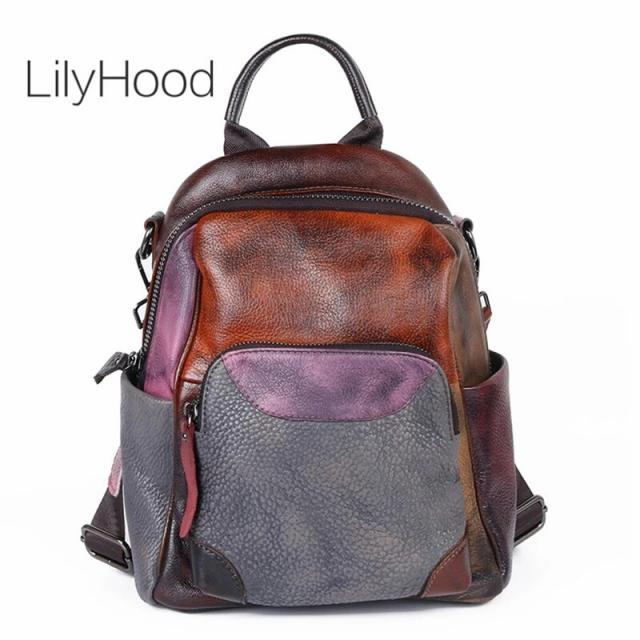backpack: (102, 141, 514, 614)
